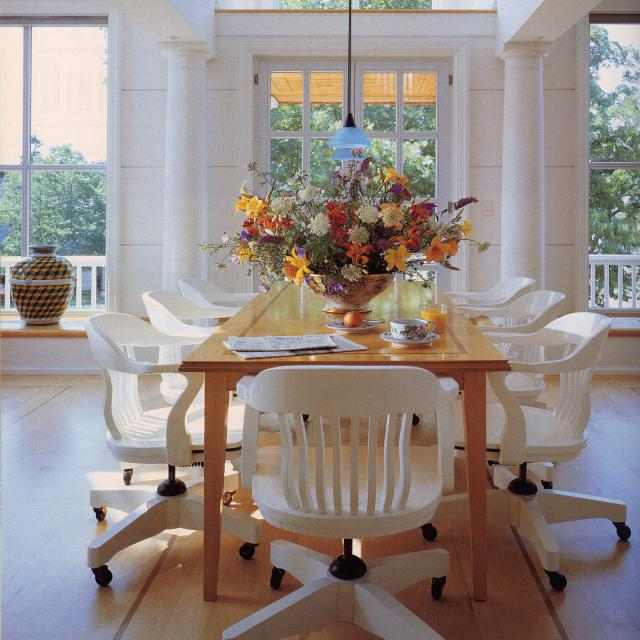chair -occluded-: (217, 362, 457, 632)
cup and saucer: (390, 318, 435, 340)
lamp crop: (318, 4, 377, 149)
vase -X: (10, 246, 72, 322)
